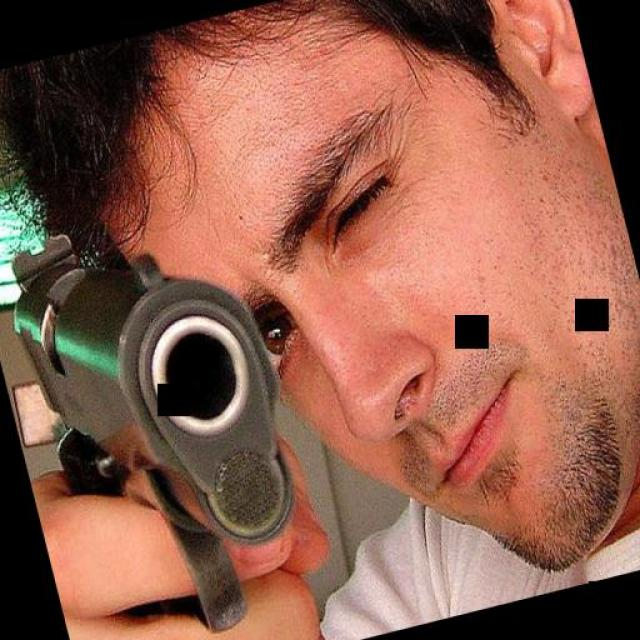gun: (0, 194, 320, 640)
